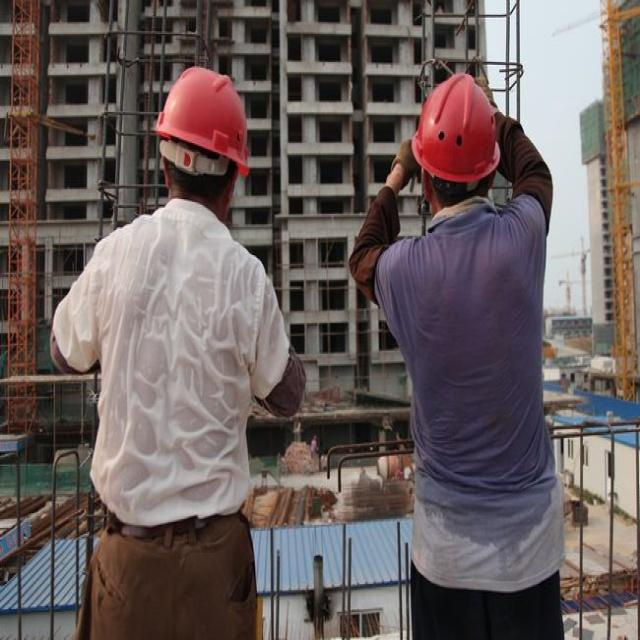helmet: (155, 83, 251, 309), (407, 96, 501, 292)
